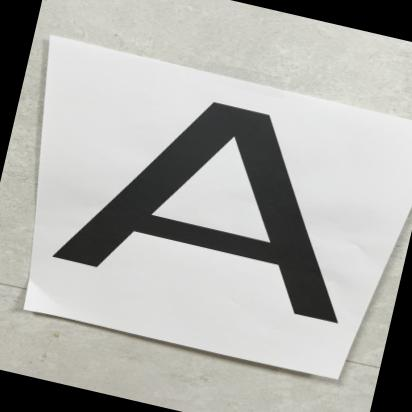seat: (46, 60, 408, 354)
